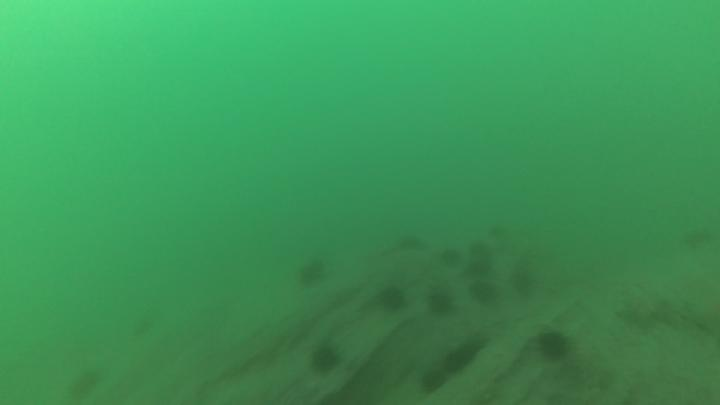echinus: (437, 339, 481, 378), (66, 365, 104, 405), (536, 328, 573, 369), (373, 281, 409, 319), (310, 341, 344, 378), (681, 223, 720, 255), (465, 276, 500, 307), (298, 257, 328, 290), (425, 291, 455, 322), (419, 368, 447, 397), (463, 256, 497, 278), (396, 233, 425, 255), (465, 241, 493, 261), (440, 246, 462, 270)
